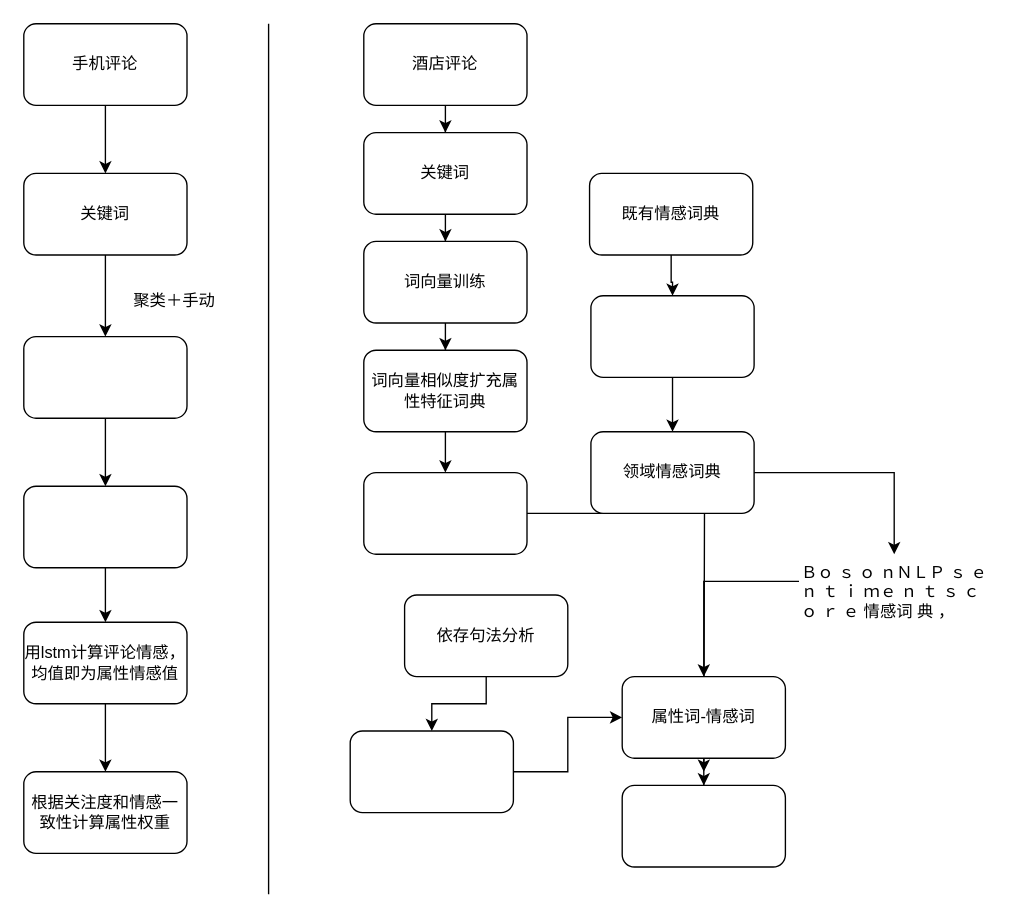
This 1013x919 diagram has some shape labels left out. The shapes that lost their labels are listed below. From the top down, each one's box as (x1, y1, x2, y2) in pixels, then its label:
(590, 294, 754, 377): 种子词
(22, 335, 187, 418): 属性词典
(22, 485, 187, 568): 划分各个属性的评论
(362, 471, 527, 554): 领域属性特征词典
(349, 730, 513, 813): SBV VOB
(621, 784, 785, 867): 取均值得到属性情感值
